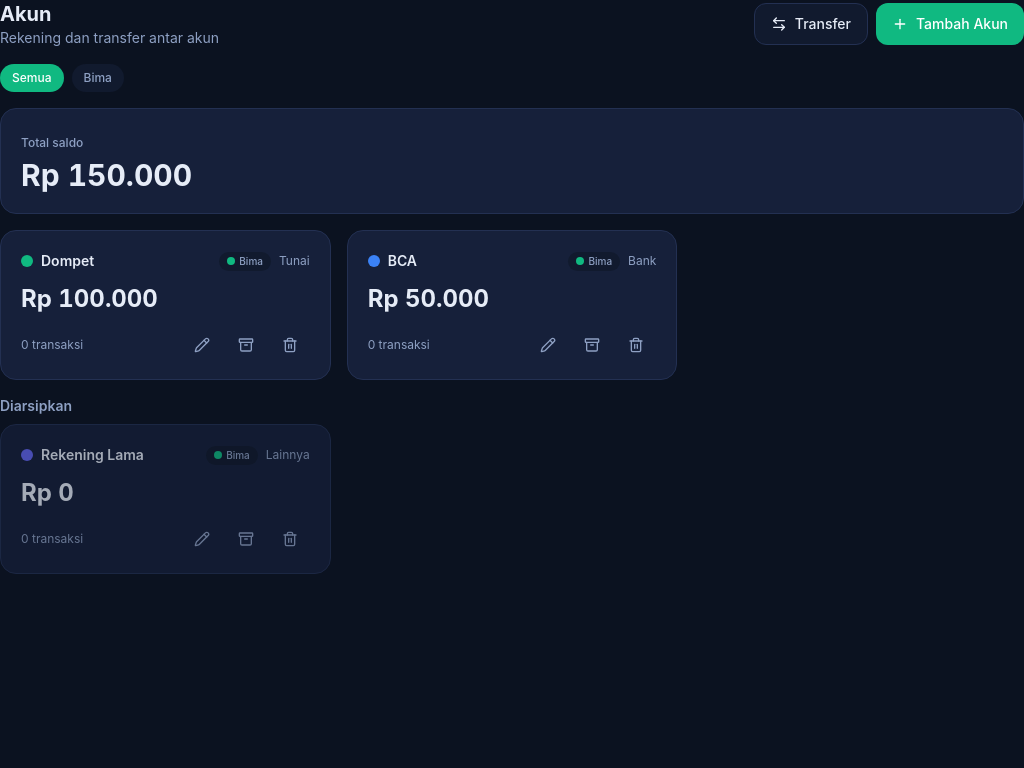
AccountsPage › deletes an account without transactions through the confirm dialog
Expected: the heading "Dompet" is shown, x1=41 y1=252 x2=94 y2=269
Click the button named "Hapus" below "Rp 100.000": (290, 345) x1=270 y1=331 x2=310 y2=359
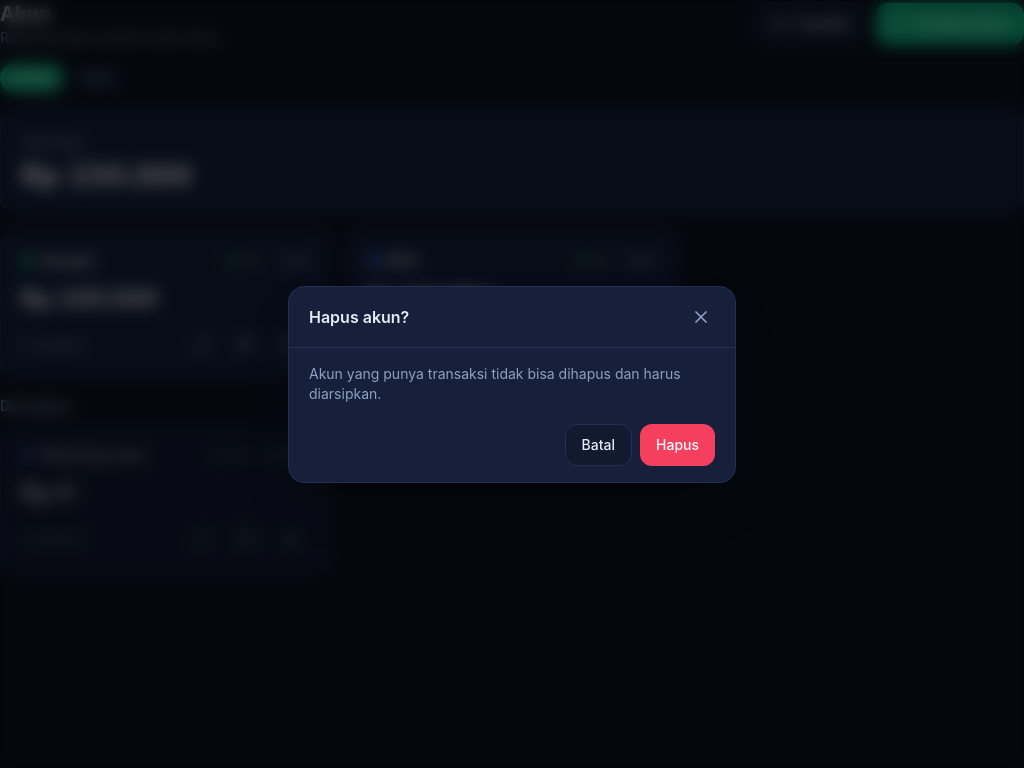
Expected: the heading "Hapus akun?" is shown, x1=309 y1=304 x2=409 y2=328
Click the button "Hapus": (678, 444) x1=640 y1=424 x2=715 y2=466
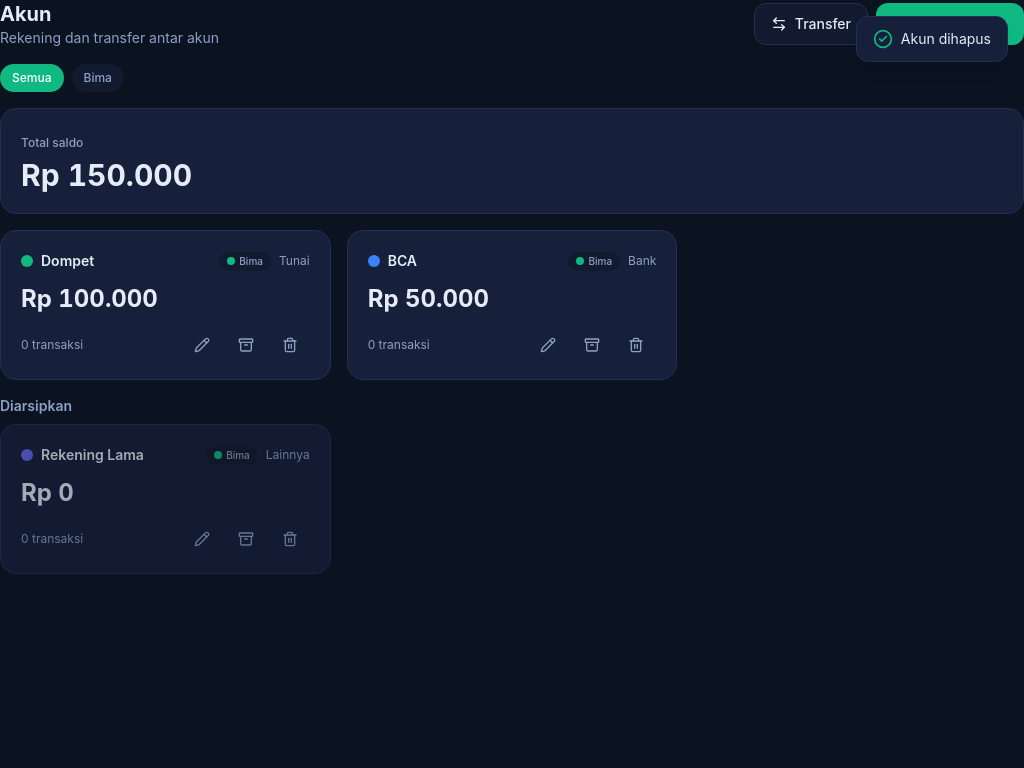
Expected: the text "Akun dihapus" is shown, x1=901 y1=29 x2=991 y2=49
